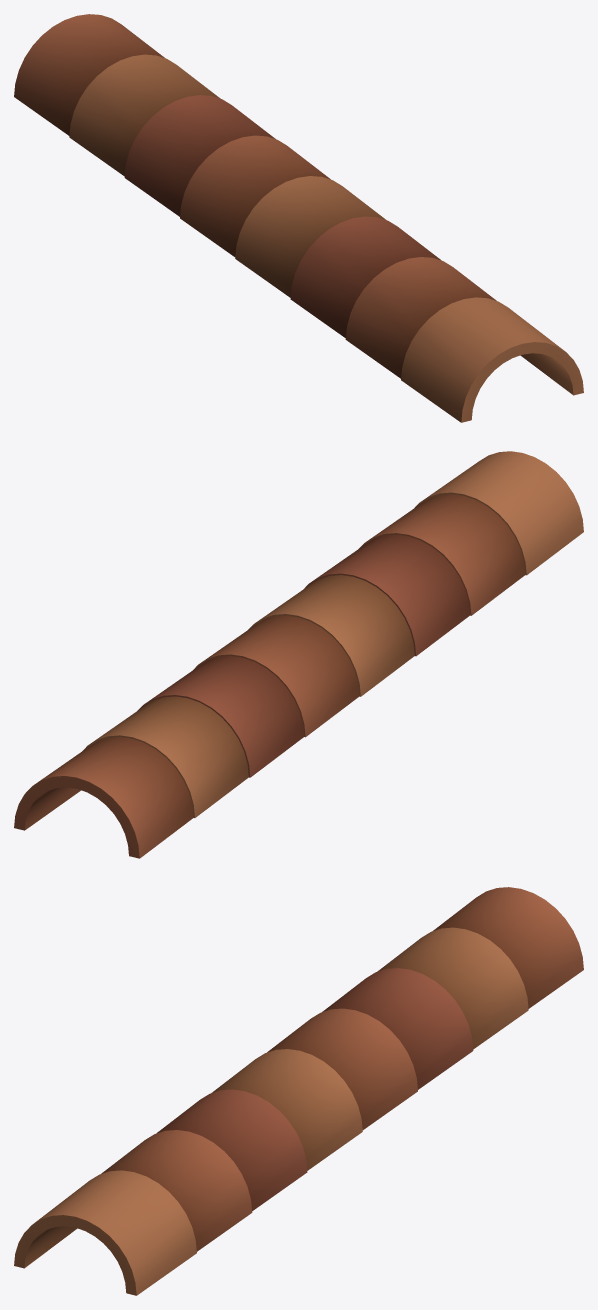
The model's file is fw_roof_ridge.glb.
3 renders of one model, top to bottom at view 1: azimuth 30°, elevation 25°; view 2: azimuth 150°, elevation 25°; view 3: azimuth 330°, elevation 25°, orthographic.
Visible parts, largest first — view 1: body; view 2: body; view 3: body.
Part boxes in pixels (left/top/right/bottom): body: left=14, top=14, right=583, bottom=422; body: left=14, top=451, right=583, bottom=858; body: left=14, top=887, right=583, bottom=1295.
Size of the model in its own units: 0.4203 by 0.2101 by 2.58.
